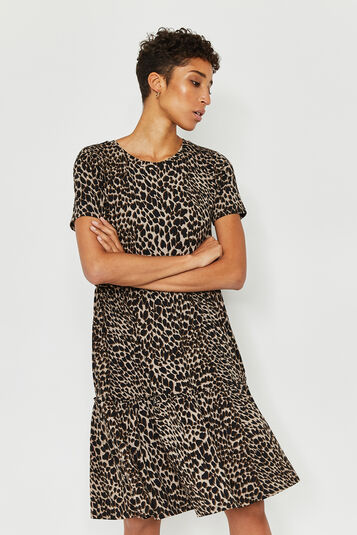C_dress: (64, 140, 296, 521)
